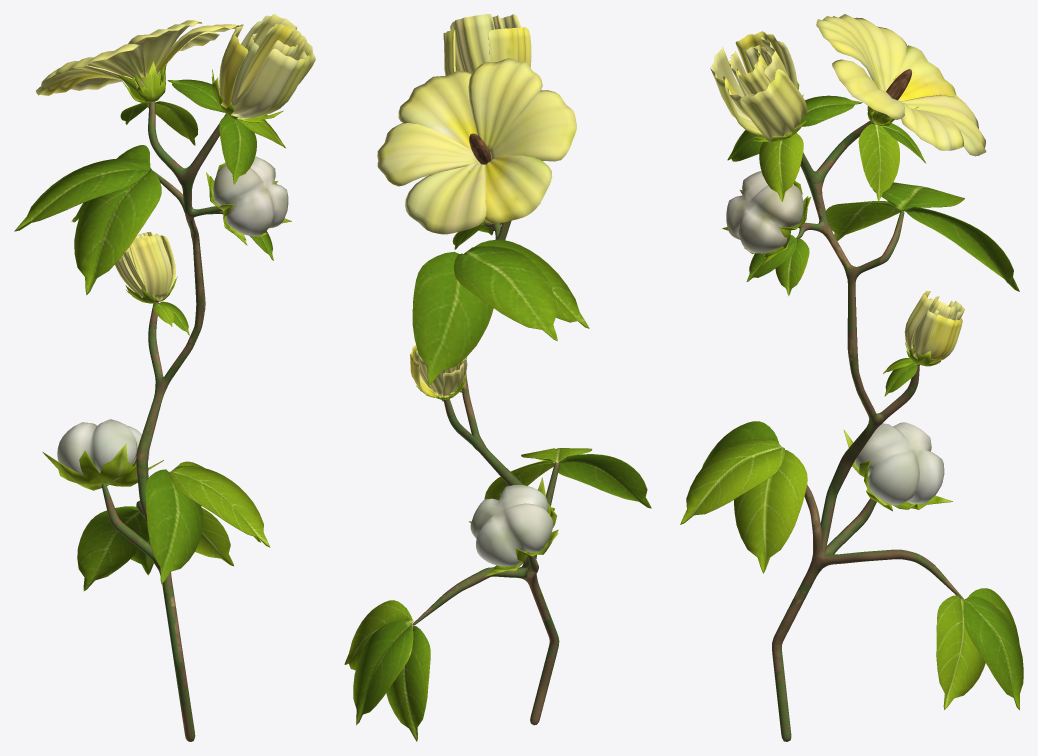
The model's file is algodon.glb.
3 views of the same model, side by side, from view 1: azimuth 30°, elevation 25°; view 2: azimuth 150°, elevation 25°; view 3: azimuth 270°, elevation 25° (orthographic). The views are drawn at different scales.
Visible parts, largest first — view 1: Circle.017; view 2: Circle.017; view 3: Circle.017.
Boxes of the visible parts, <box> form: Circle.017: <box>14,14,315,741</box>; Circle.017: <box>344,14,651,741</box>; Circle.017: <box>680,14,1023,741</box>.
Size of the model in its own units: 1.93 by 5.97 by 2.53.
Materials: 3 (3 with a texture image).
